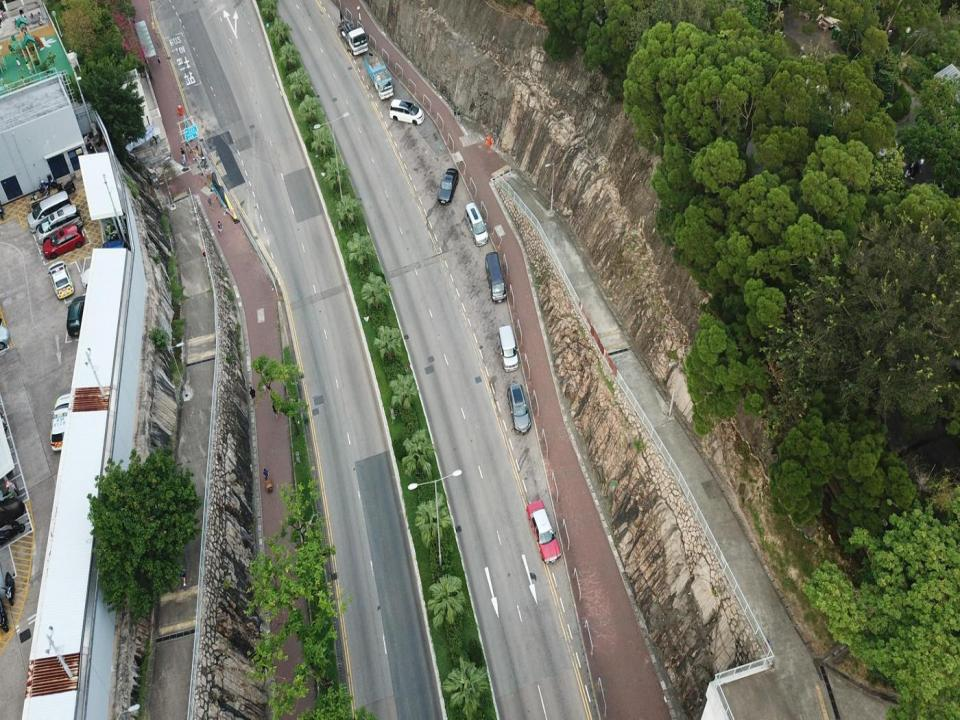car: (526, 499, 561, 563), (50, 393, 82, 450), (81, 255, 127, 290), (42, 224, 84, 259), (90, 239, 130, 268), (48, 260, 74, 299), (437, 168, 459, 205)
truck: (336, 8, 368, 56), (364, 51, 395, 100)
van: (26, 190, 72, 232), (36, 204, 83, 244), (507, 384, 531, 433), (485, 253, 506, 304), (465, 202, 488, 246), (66, 296, 90, 337), (498, 325, 518, 372), (389, 99, 424, 125)
